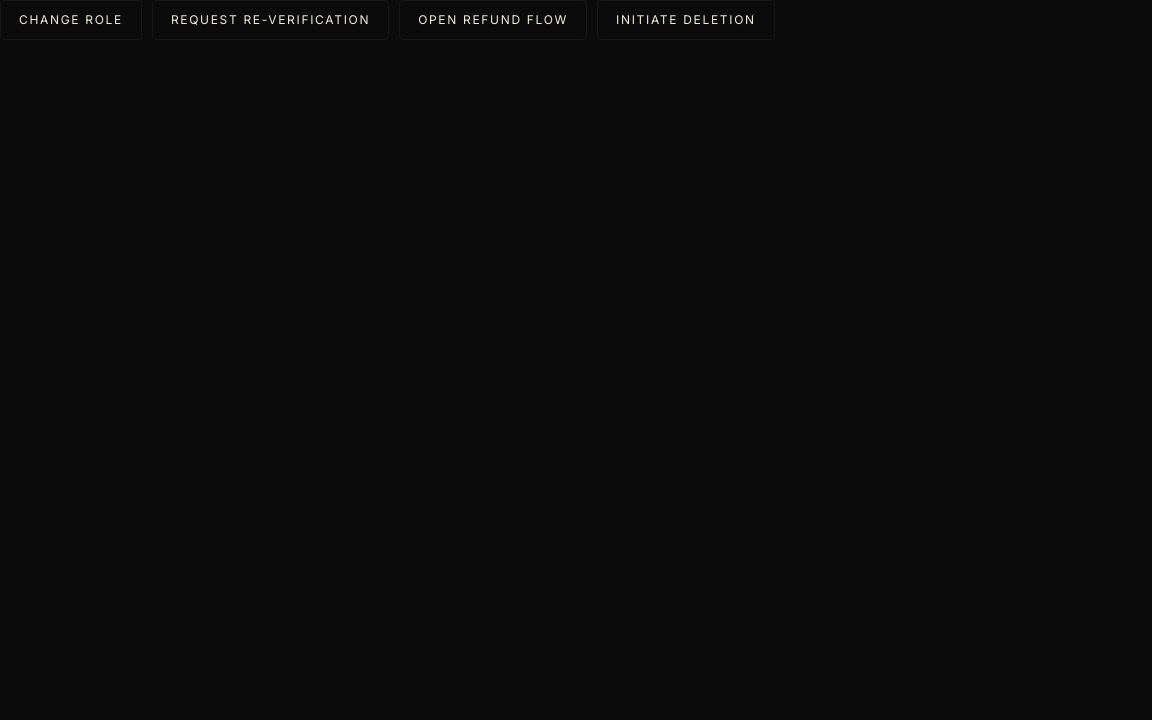
Test: AC18 — typed-phrase gate › Open refund flow: NO typed phrase — confirm enabled immediately
The width and height of the screenshot is (1152, 720).
Click the button "Open refund flow" at (493, 20), box [399,0,587,40]
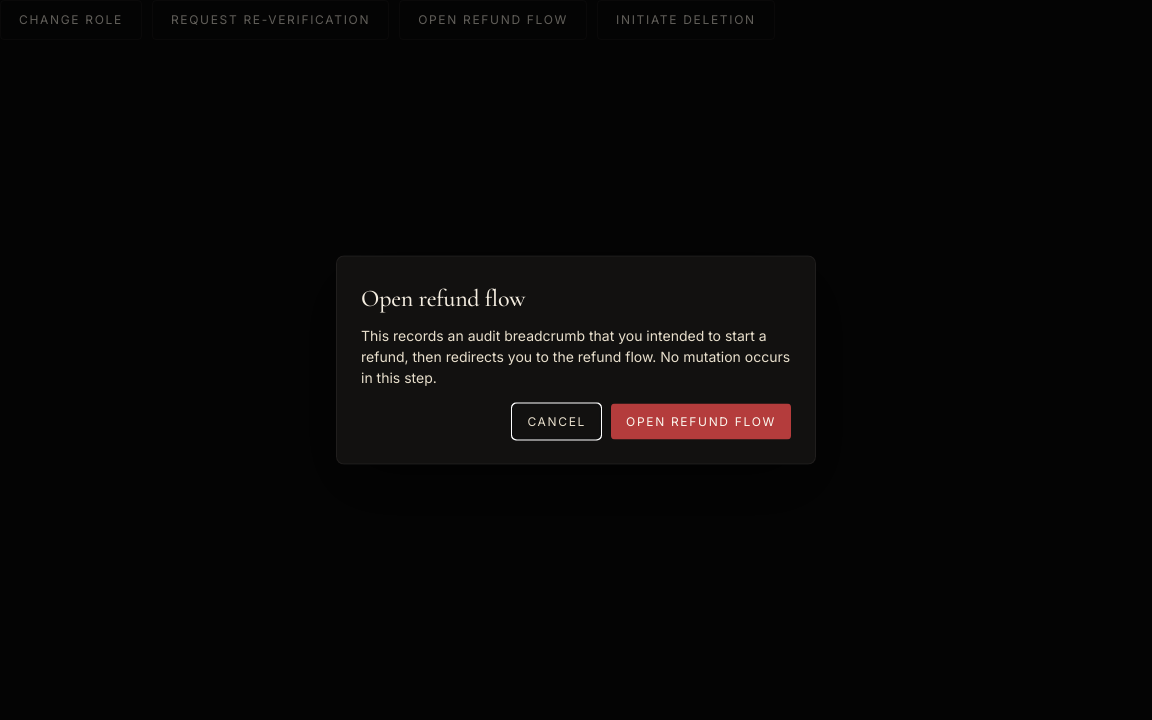
expect the button with test id "typed-confirmation-confirm" is enabled: met, box [611,404,791,440]
